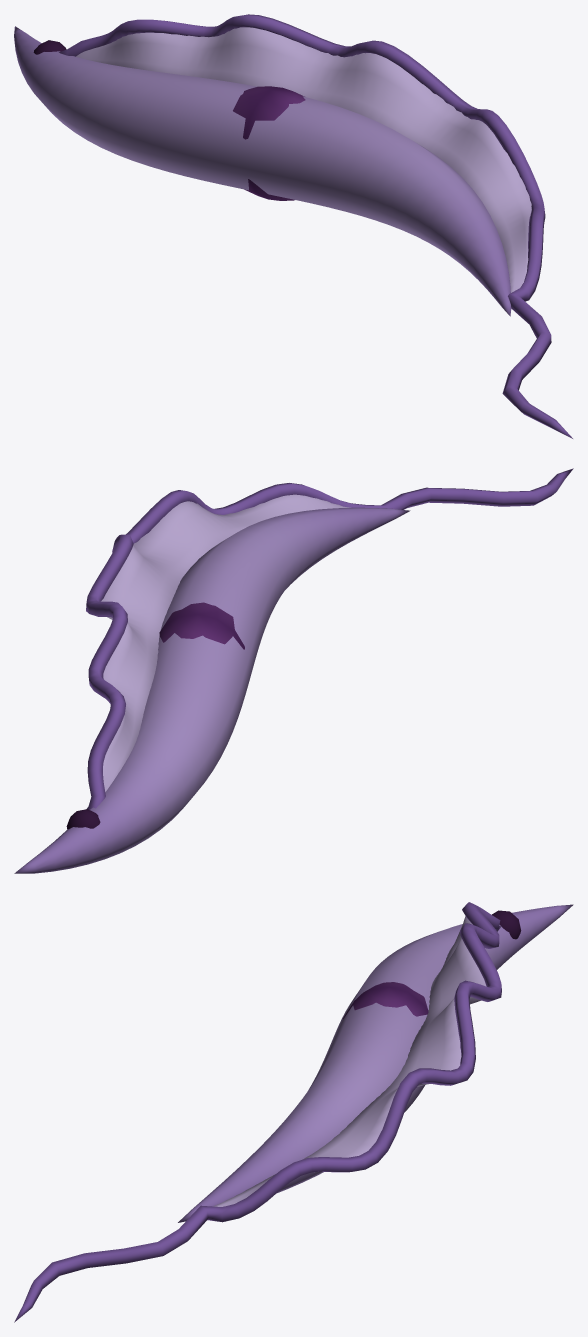
File: Trypanosome.fbx
3 views of the same model, one above another, from view 1: azimuth 30°, elevation 25°; view 2: azimuth 150°, elevation 25°; view 3: azimuth 330°, elevation 25° (orthographic).
Visible parts, largest first — view 1: Trypanosome; view 2: Trypanosome; view 3: Trypanosome.
Part boxes in pixels (left/top/right/bottom): Trypanosome: left=14, top=14, right=572, bottom=438; Trypanosome: left=14, top=468, right=573, bottom=873; Trypanosome: left=14, top=902, right=573, bottom=1322.
Size of the model in its own units: 0.3671 by 0.2325 by 1.53.
